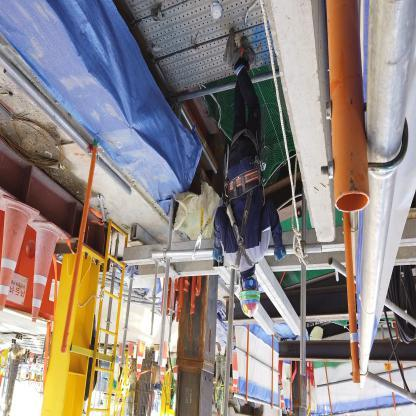safety-shoe: (221, 25, 241, 66), (242, 34, 258, 70)
